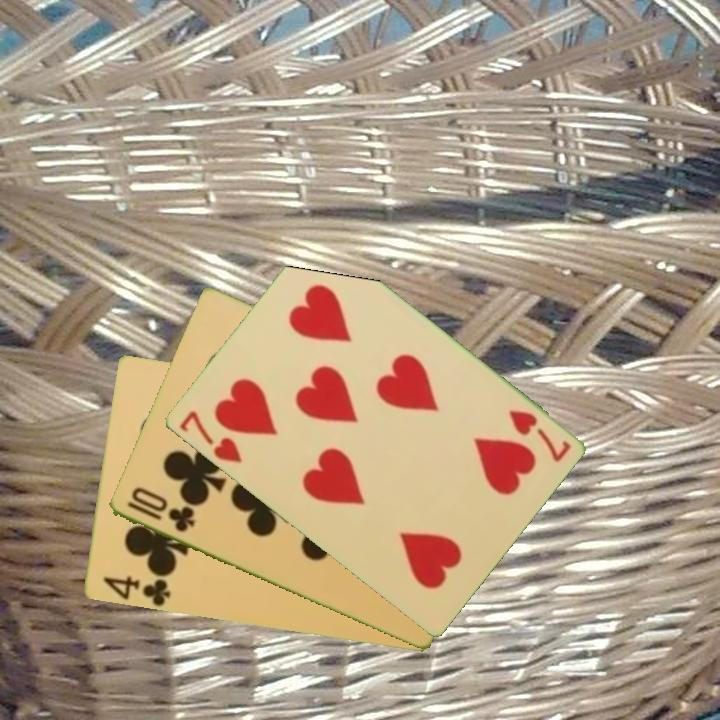10c: (123, 484, 198, 536)
4c: (98, 573, 173, 608)
7h: (175, 407, 245, 466), (504, 406, 574, 465)
